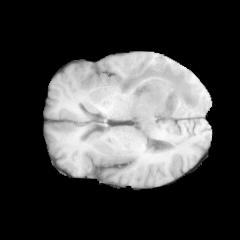glioma: (120, 62, 200, 135)
